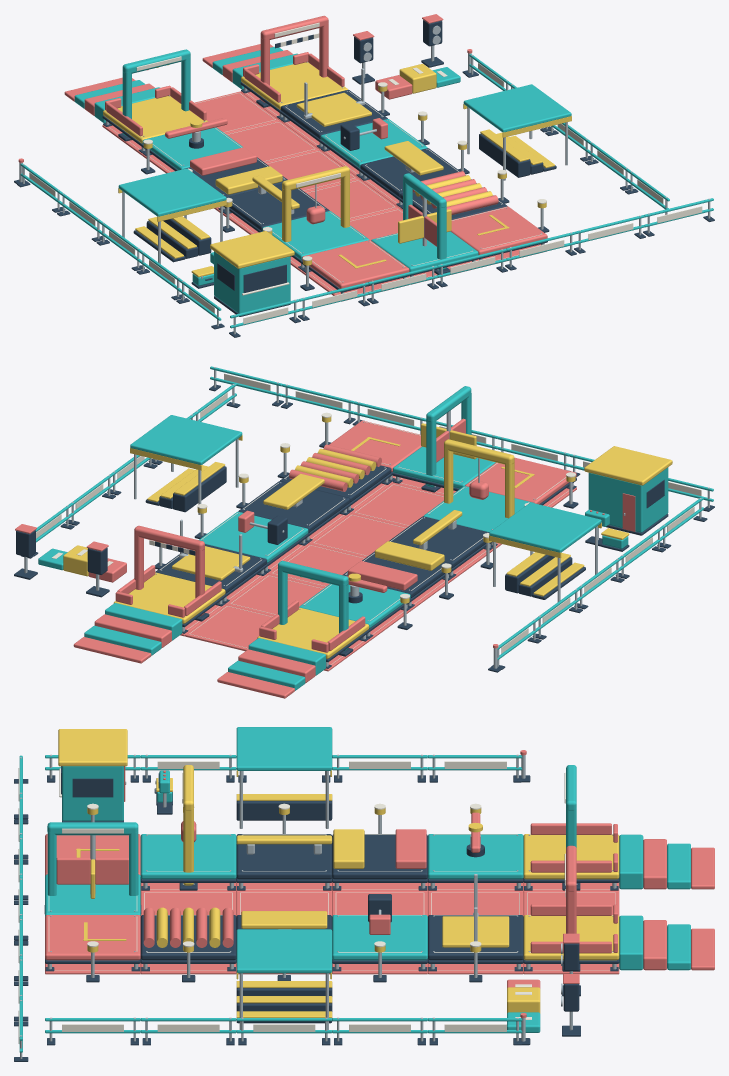
The model's file is party-obstacle-course-party-obstacle-cou-62a043a4-starter-scene__28953.glb.
3 renders of one model, top to bottom at view 1: azimuth 30°, elevation 25°; view 2: azimuth 150°, elevation 25°; view 3: azimuth 270°, elevation 25°, orthographic. The views are drawn at different scales.
Parts seen in each view (by area): view 1: 006-party-obstacle-course-rotating-paddle-gate/2, 023-party-obstacle-course-shade-canopy/1, 020-party-obstacle-course-shade-canopy/1, 005-party-obstacle-course-platform-corner/2, 007-party-obstacle-course-platform-corner/2, 017-party-obstacle-course-operator-booth/1, 004-party-obstacle-course-pendulum-gate/2, 012-party-obstacle-course-end-landing/2, 044-party-obstacle-course-safety-mat/0, 000-party-obstacle-course-end-landing/2, 003-party-obstacle-course-balance-beam/0, 001-party-obstacle-course-rotating-sweeper/2 (+36 smaller); view 2: 006-party-obstacle-course-rotating-paddle-gate/2, 020-party-obstacle-course-shade-canopy/1, 023-party-obstacle-course-shade-canopy/1, 017-party-obstacle-course-operator-booth/1, 009-party-obstacle-course-tilting-seesaw/0, 005-party-obstacle-course-platform-corner/2, 010-party-obstacle-course-piston-bumper/2, 007-party-obstacle-course-platform-corner/2, 003-party-obstacle-course-balance-beam/0, 046-party-obstacle-course-safety-mat/0, 047-party-obstacle-course-safety-mat/0, 043-party-obstacle-course-safety-mat/0 (+37 smaller); view 3: 006-party-obstacle-course-rotating-paddle-gate/2, 023-party-obstacle-course-shade-canopy/1, 020-party-obstacle-course-shade-canopy/1, 007-party-obstacle-course-platform-corner/2, 001-party-obstacle-course-rotating-sweeper/2, 004-party-obstacle-course-pendulum-gate/2, 003-party-obstacle-course-balance-beam/0, 010-party-obstacle-course-piston-bumper/2, 000-party-obstacle-course-end-landing/2, 012-party-obstacle-course-end-landing/2, 011-party-obstacle-course-moving-lift/0, 002-party-obstacle-course-gap-jump-platform/0 (+55 smaller).
Part boxes in pixels (x1,y1,x2,y2): 006-party-obstacle-course-rotating-paddle-gate/2: (371,173,478,271); 023-party-obstacle-course-shade-canopy/1: (463,84,571,132); 020-party-obstacle-course-shade-canopy/1: (118,168,226,216); 005-party-obstacle-course-platform-corner/2: (302,240,409,288); 007-party-obstacle-course-platform-corner/2: (451,206,547,254); 017-party-obstacle-course-operator-booth/1: (214,251,290,313); 004-party-obstacle-course-pendulum-gate/2: (262,211,369,260); 012-party-obstacle-course-end-landing/2: (241,62,347,109); 044-party-obstacle-course-safety-mat/0: (226,120,319,162); 000-party-obstacle-course-end-landing/2: (103,96,207,143); 003-party-obstacle-course-balance-beam/0: (223,183,329,232); 001-party-obstacle-course-rotating-sweeper/2: (142,127,242,170); 006-party-obstacle-course-rotating-paddle-gate/2: (393,386,495,488); 020-party-obstacle-course-shade-canopy/1: (489,502,601,552); 023-party-obstacle-course-shade-canopy/1: (130,415,242,464); 017-party-obstacle-course-operator-booth/1: (588,467,668,532); 009-party-obstacle-course-tilting-seesaw/0: (238,481,350,542); 005-party-obstacle-course-platform-corner/2: (465,457,576,504); 010-party-obstacle-course-piston-bumper/2: (199,511,308,562); 007-party-obstacle-course-platform-corner/2: (329,420,421,471); 003-party-obstacle-course-balance-beam/0: (389,516,492,577); 046-party-obstacle-course-safety-mat/0: (309,513,406,557); 047-party-obstacle-course-safety-mat/0: (351,483,443,527); 043-party-obstacle-course-safety-mat/0: (185,604,273,651); 006-party-obstacle-course-rotating-paddle-gate/2: (45,822,140,916); 023-party-obstacle-course-shade-canopy/1: (236,929,332,973); 020-party-obstacle-course-shade-canopy/1: (236,727,332,770); 007-party-obstacle-course-platform-corner/2: (45,915,140,960); 001-party-obstacle-course-rotating-sweeper/2: (428,834,523,879); 004-party-obstacle-course-pendulum-gate/2: (140,834,236,879); 003-party-obstacle-course-balance-beam/0: (236,834,332,890); 010-party-obstacle-course-piston-bumper/2: (332,915,427,960); 000-party-obstacle-course-end-landing/2: (523,834,619,879); 012-party-obstacle-course-end-landing/2: (523,915,619,960); 011-party-obstacle-course-moving-lift/0: (428,915,523,971); 002-party-obstacle-course-gap-jump-platform/0: (332,834,427,890).
Bounding box in the file's own units: 28.3 × 4.19 × 29.3.
